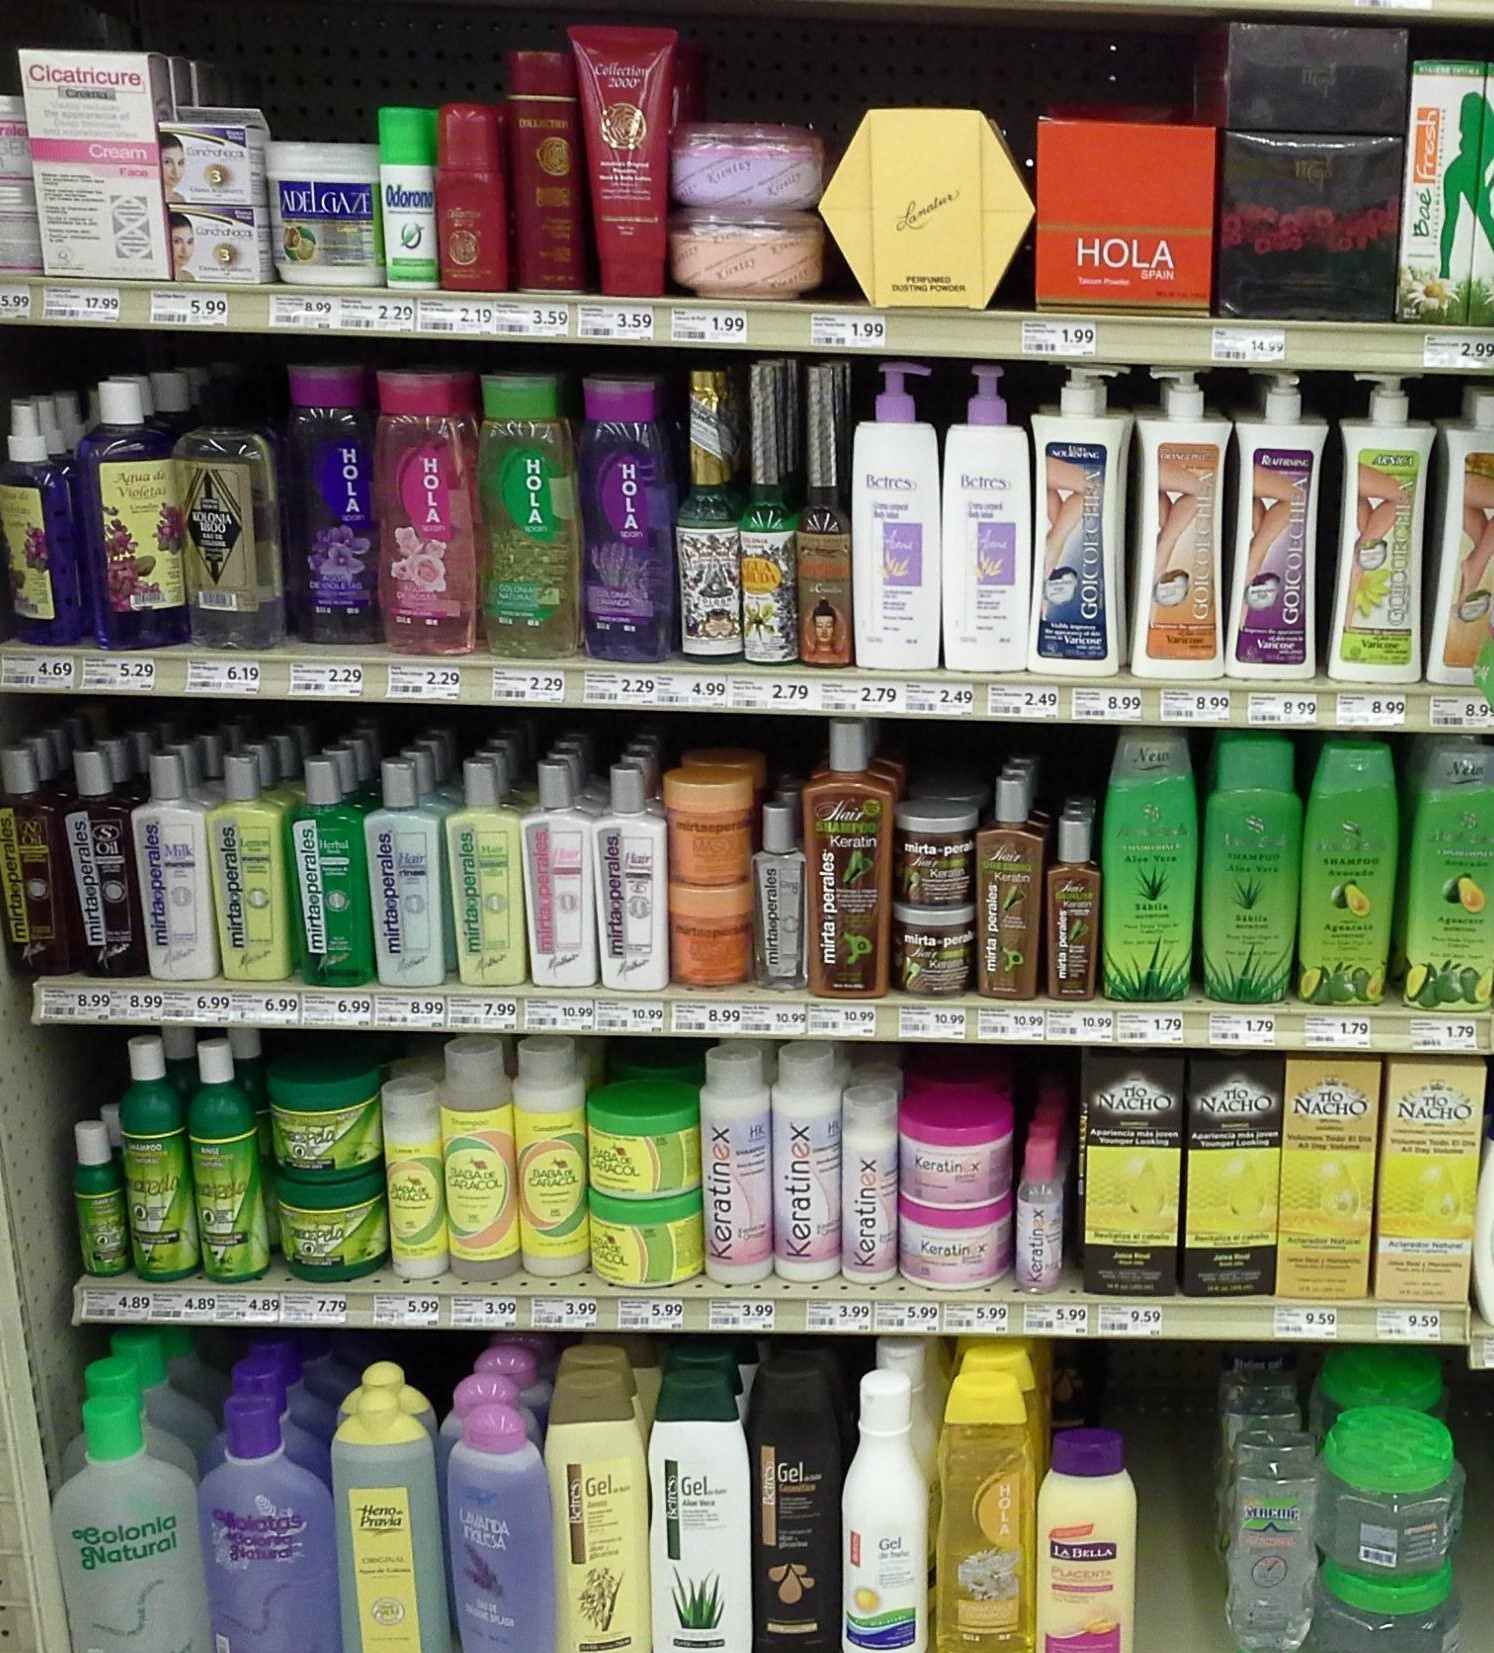empty: (1138, 1362, 1205, 1653)
misalignment: (443, 1354, 545, 1653)
